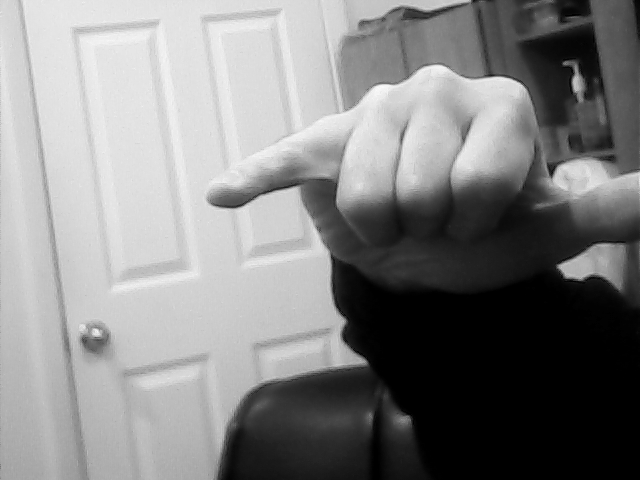aloha: (191, 63, 640, 293)
